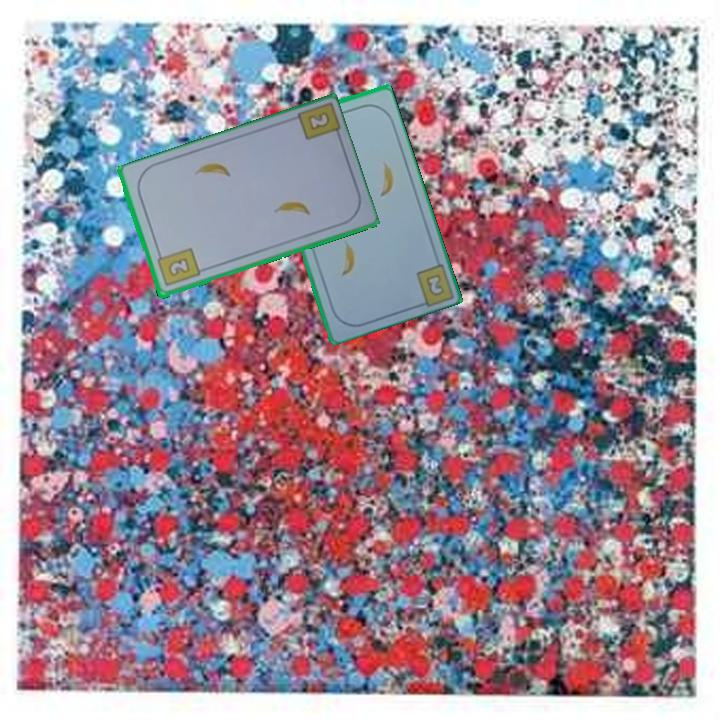2b: (153, 245, 202, 290), (304, 108, 332, 134), (422, 270, 447, 299)
